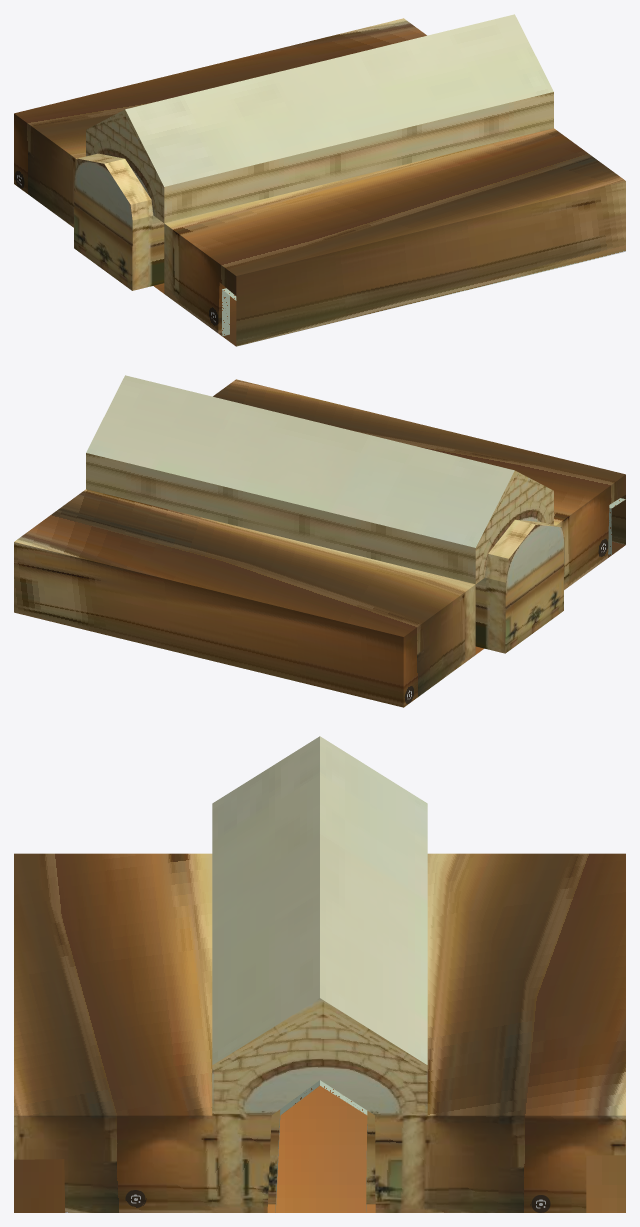
Rendered from mall1.glb.
The picture shows the model from 3 angles, top to bottom: view 1: azimuth 30°, elevation 25°; view 2: azimuth 150°, elevation 25°; view 3: azimuth 270°, elevation 25°; orthographic projection. The views are drawn at different scales.
Visible parts, largest first — view 1: mall-col; view 2: mall-col; view 3: mall-col.
Boxes of the visible parts, x1,y1,x2,y2 form: mall-col: [14, 14, 625, 346]; mall-col: [14, 375, 625, 707]; mall-col: [14, 736, 625, 1212].
Size of the model in its own units: 16.88 by 6.13 by 15.82.
1 material, 1 textured.
